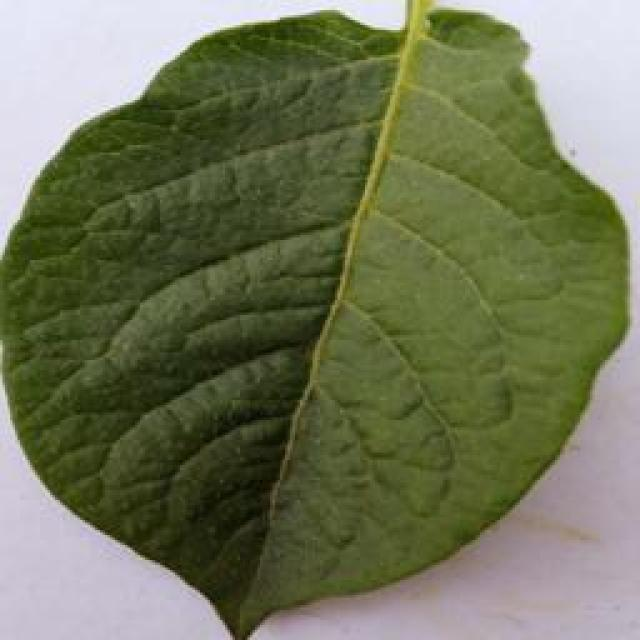Potato_Healthy: (4, 8, 620, 637)
